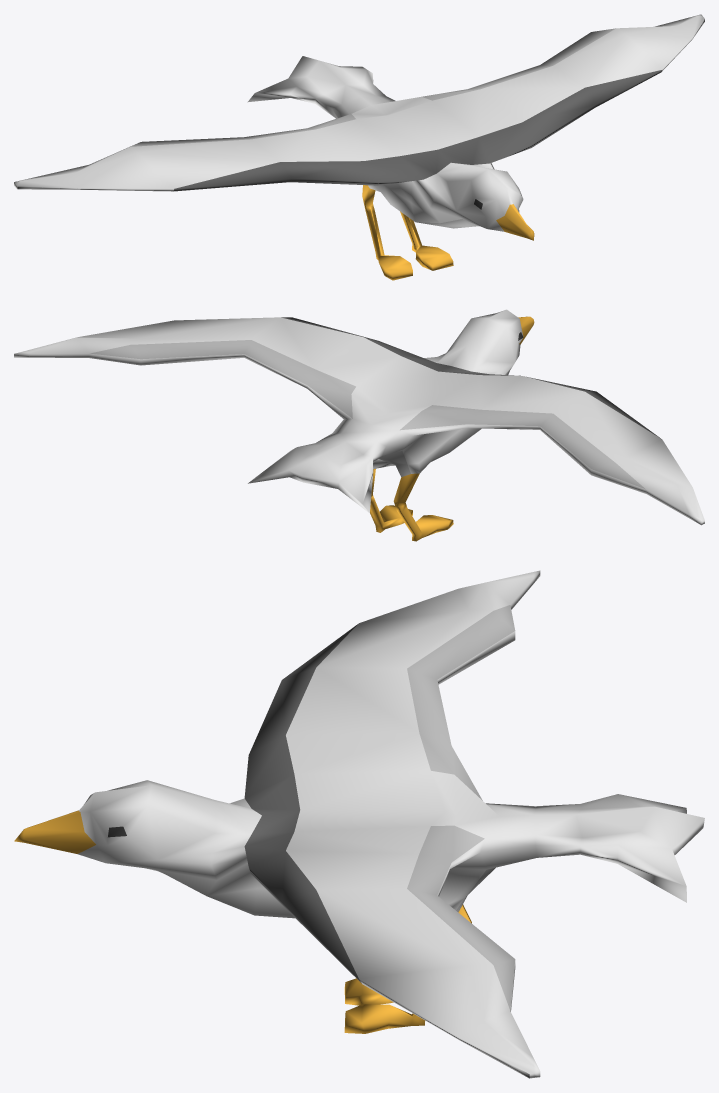
File: seagull.glb
3 views of the same model, one above another, from view 1: azimuth 30°, elevation 25°; view 2: azimuth 150°, elevation 25°; view 3: azimuth 270°, elevation 25° (orthographic). The views are drawn at different scales.
Parts seen in each view (by area): view 1: Object_5; view 2: Object_5; view 3: Object_5.
Boxes of the visible parts, x1,y1,x2,y2 form: Object_5: [14, 14, 704, 280]; Object_5: [14, 309, 704, 541]; Object_5: [14, 570, 704, 1078].
Size of the model in its own units: 3.32 by 0.7191 by 1.93.
1 material, 1 textured.
